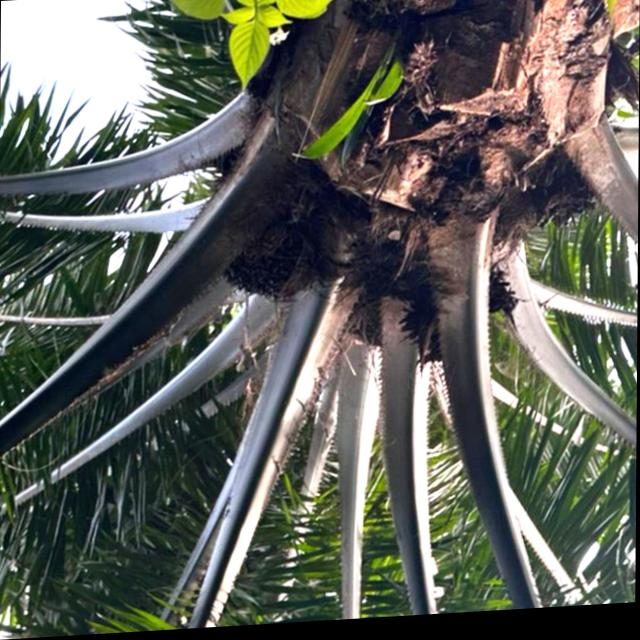unripe: (196, 190, 333, 318)
